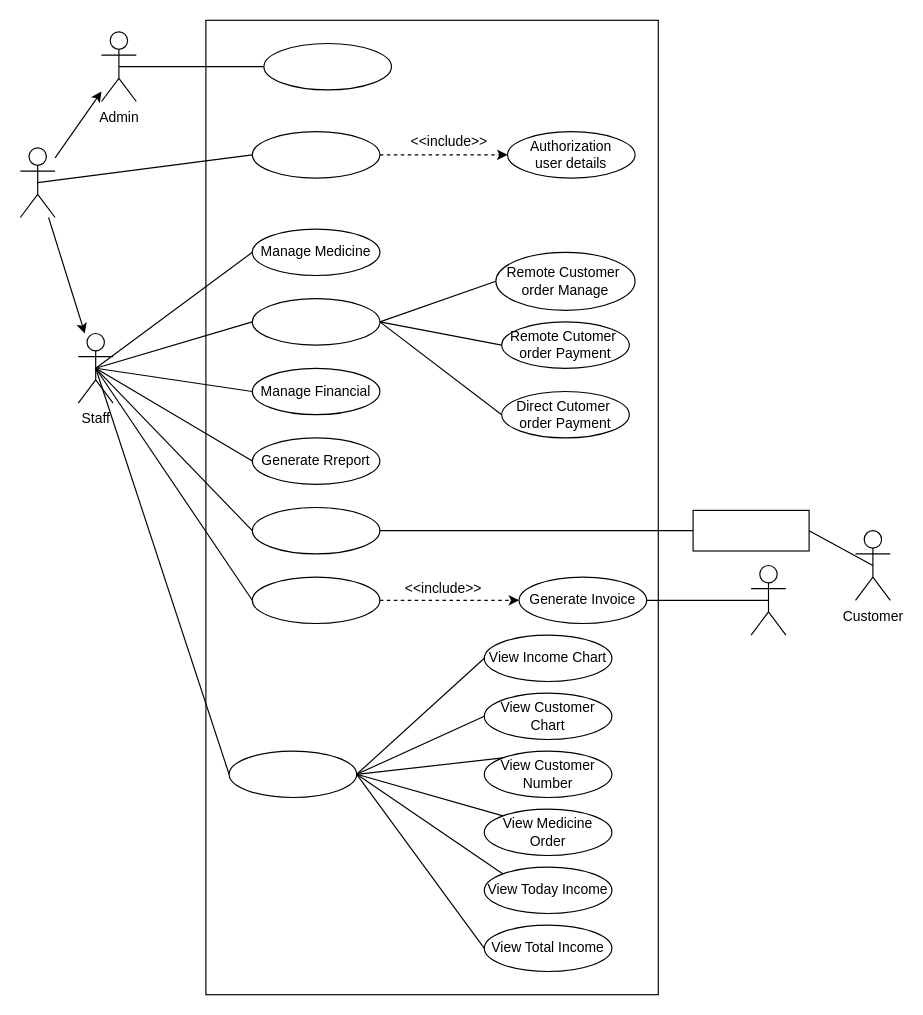
Image size: 923x1015. Some labels were removed from this diagram. The centre of each missing label's shape, as x and y in pixels:
delivery person: (768,599)
Email Communication: (315,530)
Email Server <<actor>>: (750,530)
Login: (315,154)
Manage Customer: (315,321)
Manage user: (327,66)
Medicine Distribusion: (315,600)
User: (37,182)
View Summery: (292,774)
